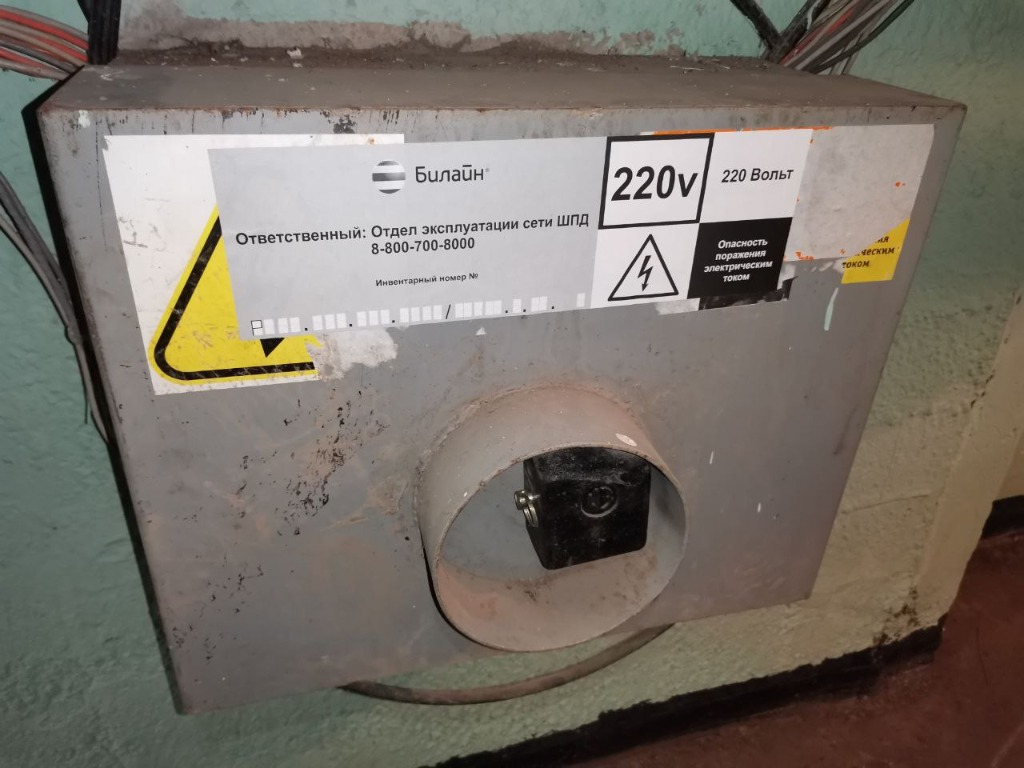shta-3: (35, 47, 969, 717)
